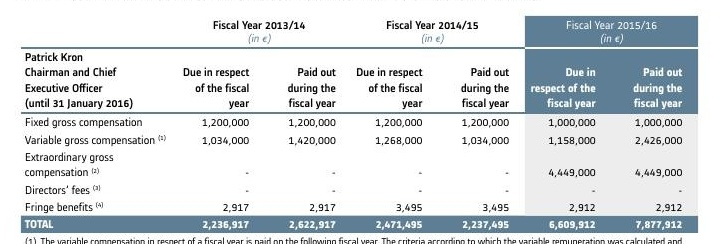table: (0, 0, 723, 244)
